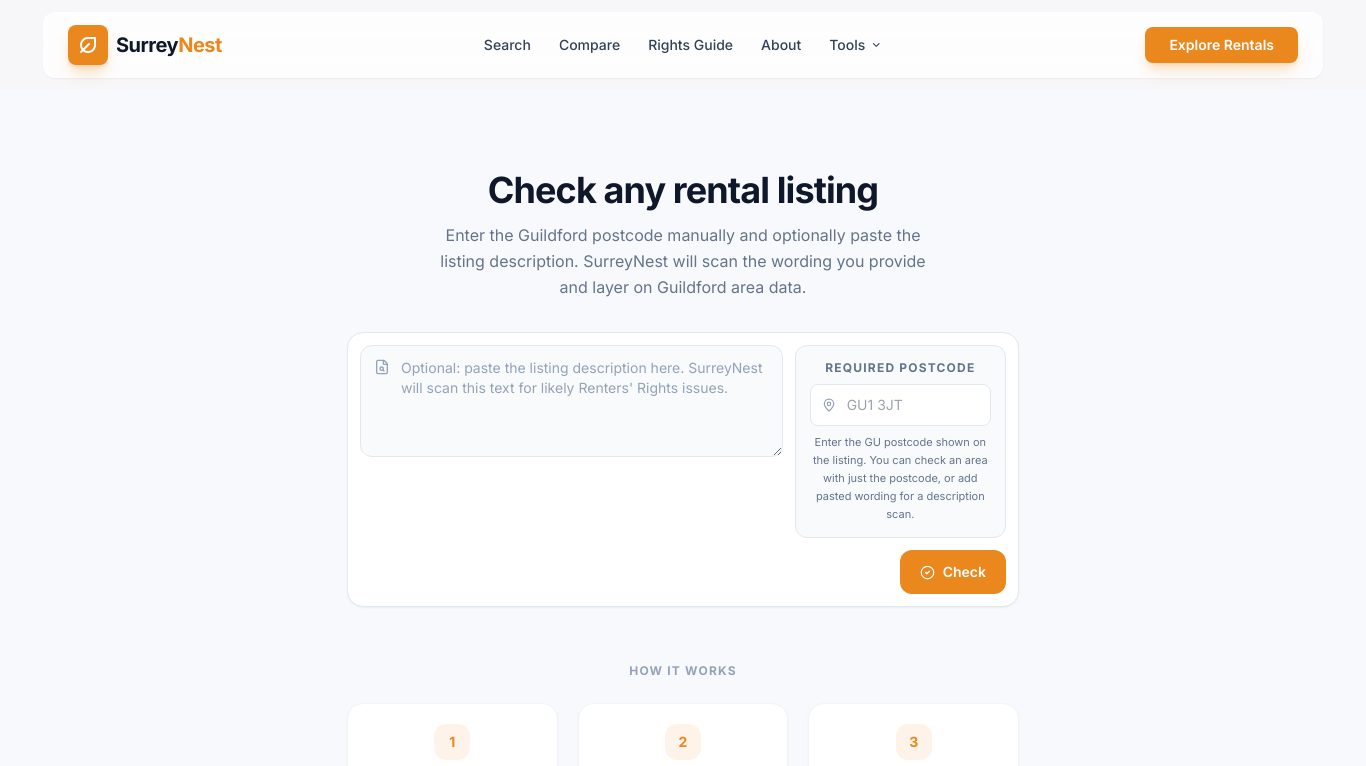
Scenario: CheckListing › labels the scan as unavailable when no wording was provided
The width and height of the screenshot is (1366, 766).
Type "GU1 1AA" into the field with placeholder "GU1 3JT" at (900, 405), box [810,384,991,426]
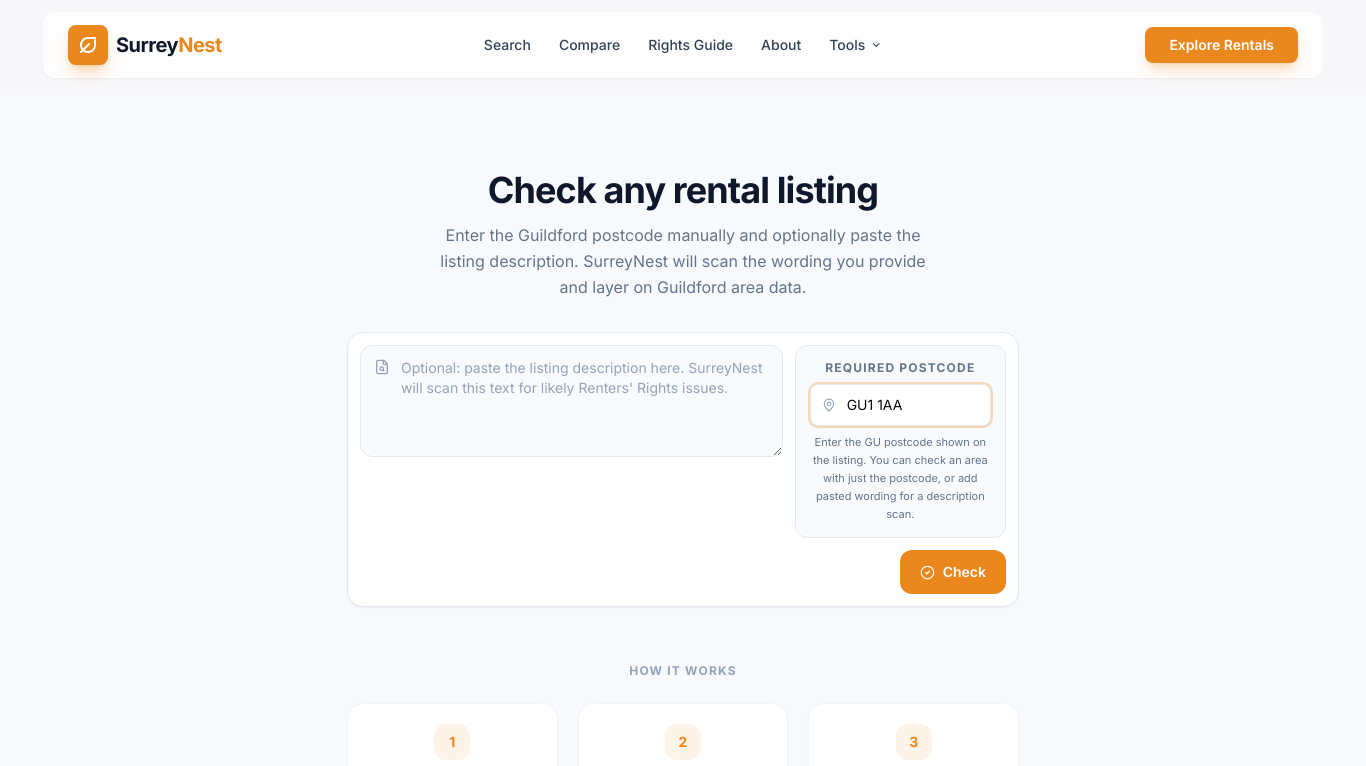
Click the button "Check" at (953, 572), box [900,550,1006,594]
(page scrolled)
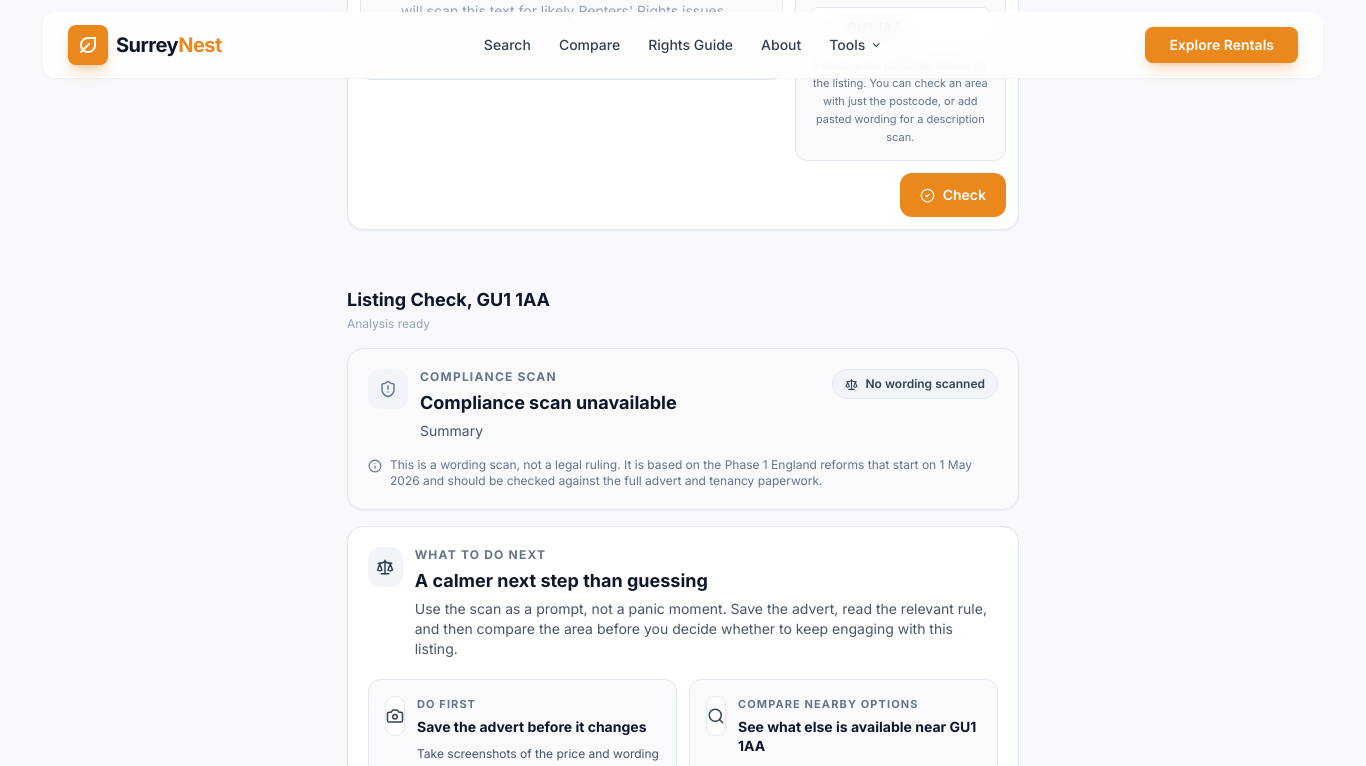
Expected: the text "No wording scanned" is shown, [832,369,998,399]
